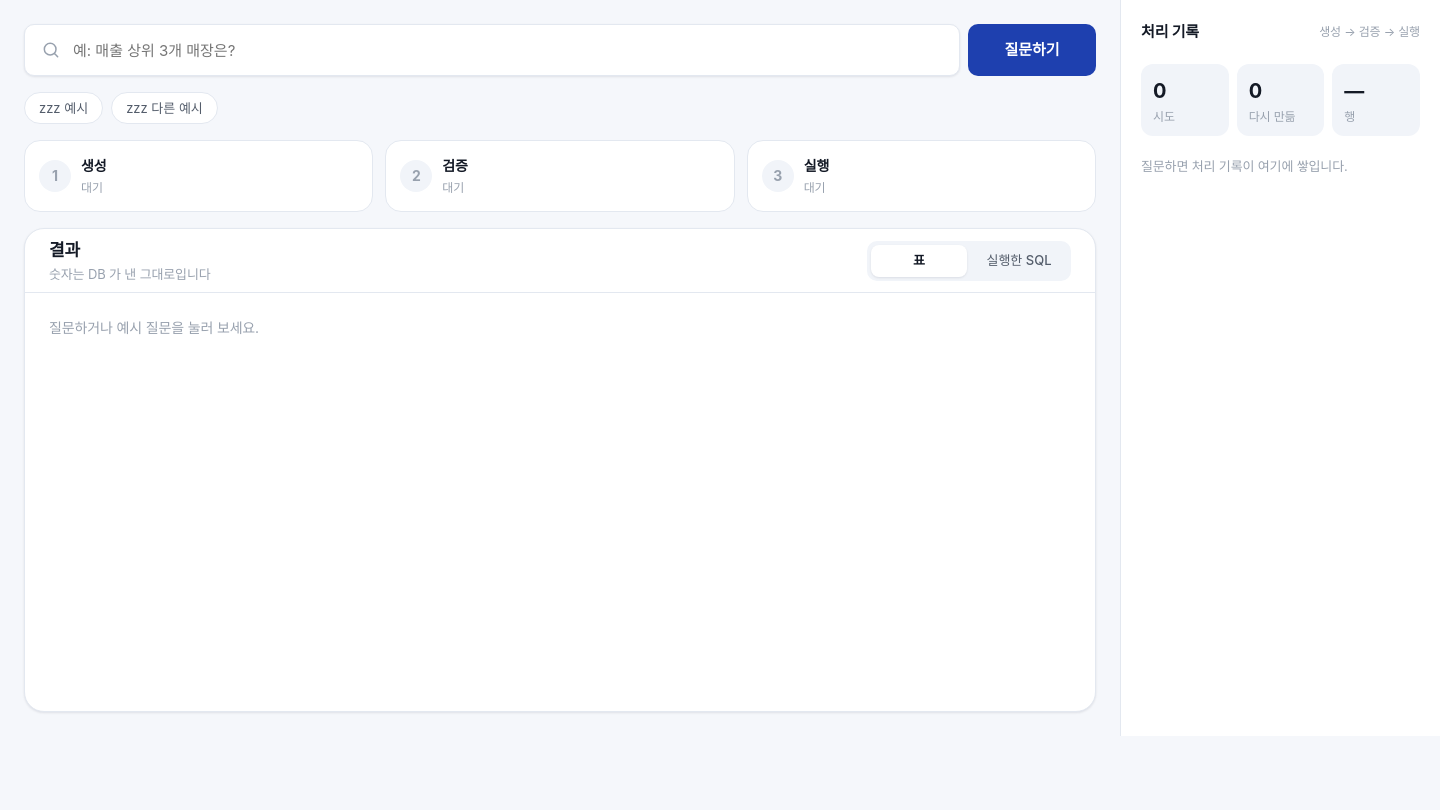
AskQuery › 예시 질문을 누르면 질문칸에 넣어 바로 묻고, 고른 예시를 강조한다 (SCR-R006)
The image size is (1440, 810).
Click the button "zzz 예시": (64, 108) [24,92,103,124]
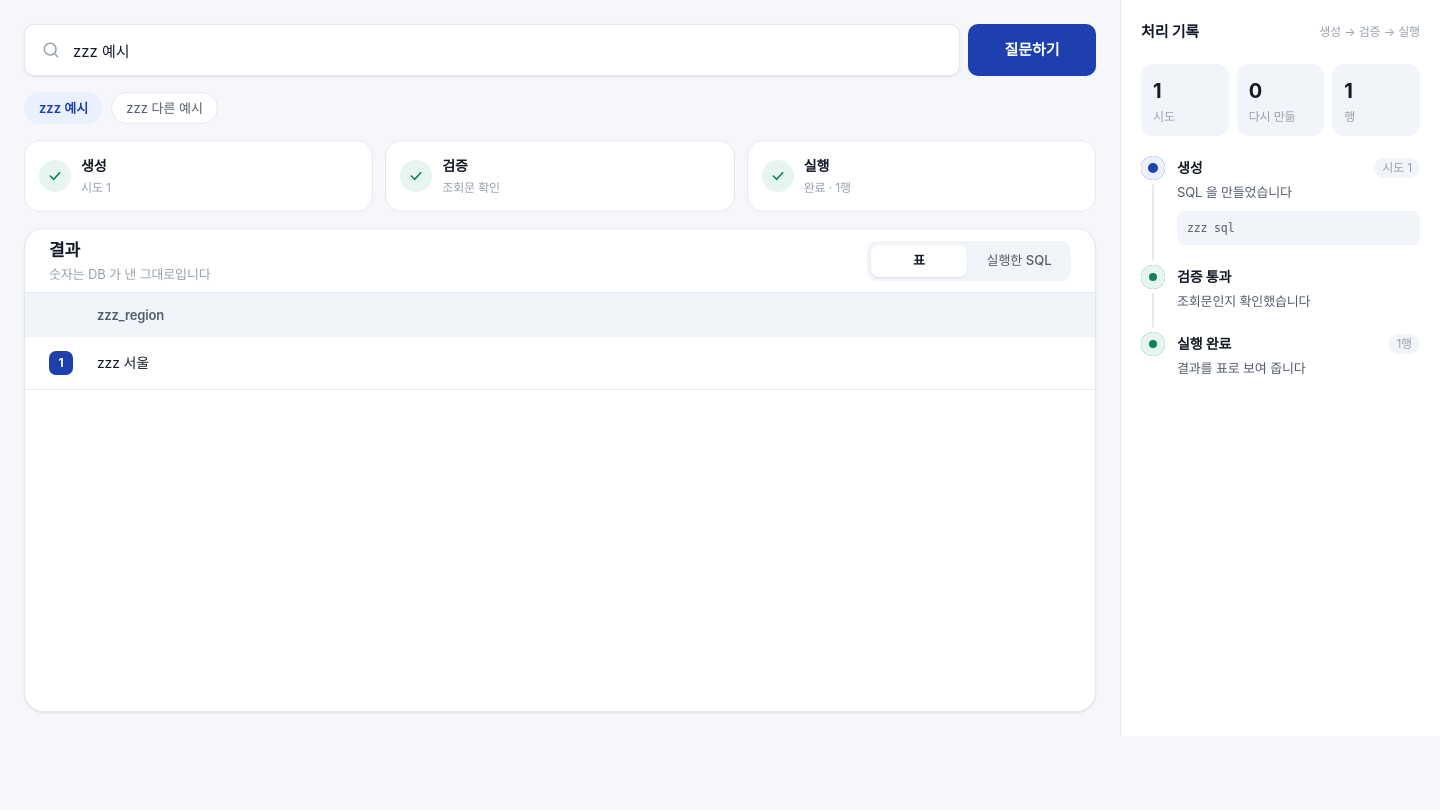
Check: the cell "zzz 서울" is shown, box [73,337,1095,389]
Check: the field named "질문" holds "zzz 예시", box [71,25,943,75]
